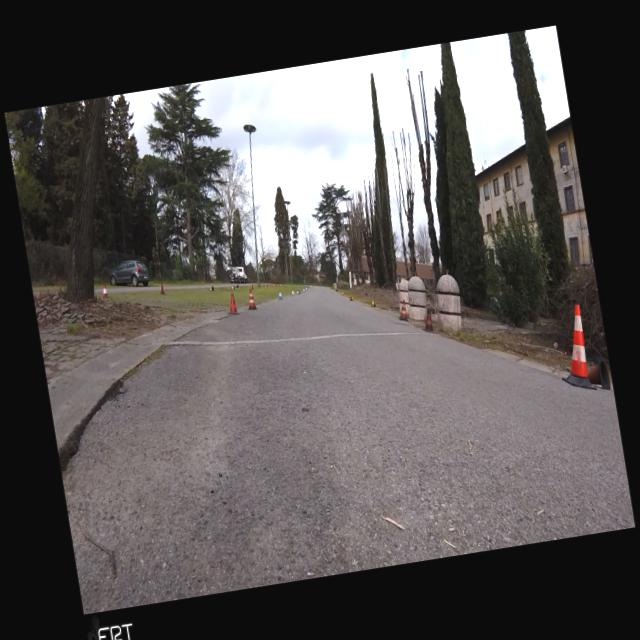blue_cone: (276, 288, 284, 300), (296, 290, 301, 295), (291, 290, 295, 296)
large_orange_cone: (551, 302, 597, 394), (419, 308, 436, 335), (245, 288, 258, 310), (396, 300, 409, 322)
orange_cone: (101, 284, 109, 298), (208, 286, 214, 292), (230, 285, 235, 290)
unknown_cone: (585, 354, 611, 392), (224, 292, 240, 316), (158, 282, 166, 296), (251, 284, 254, 289), (236, 285, 238, 288)
yellow_cone: (369, 299, 378, 308), (349, 296, 354, 302)
